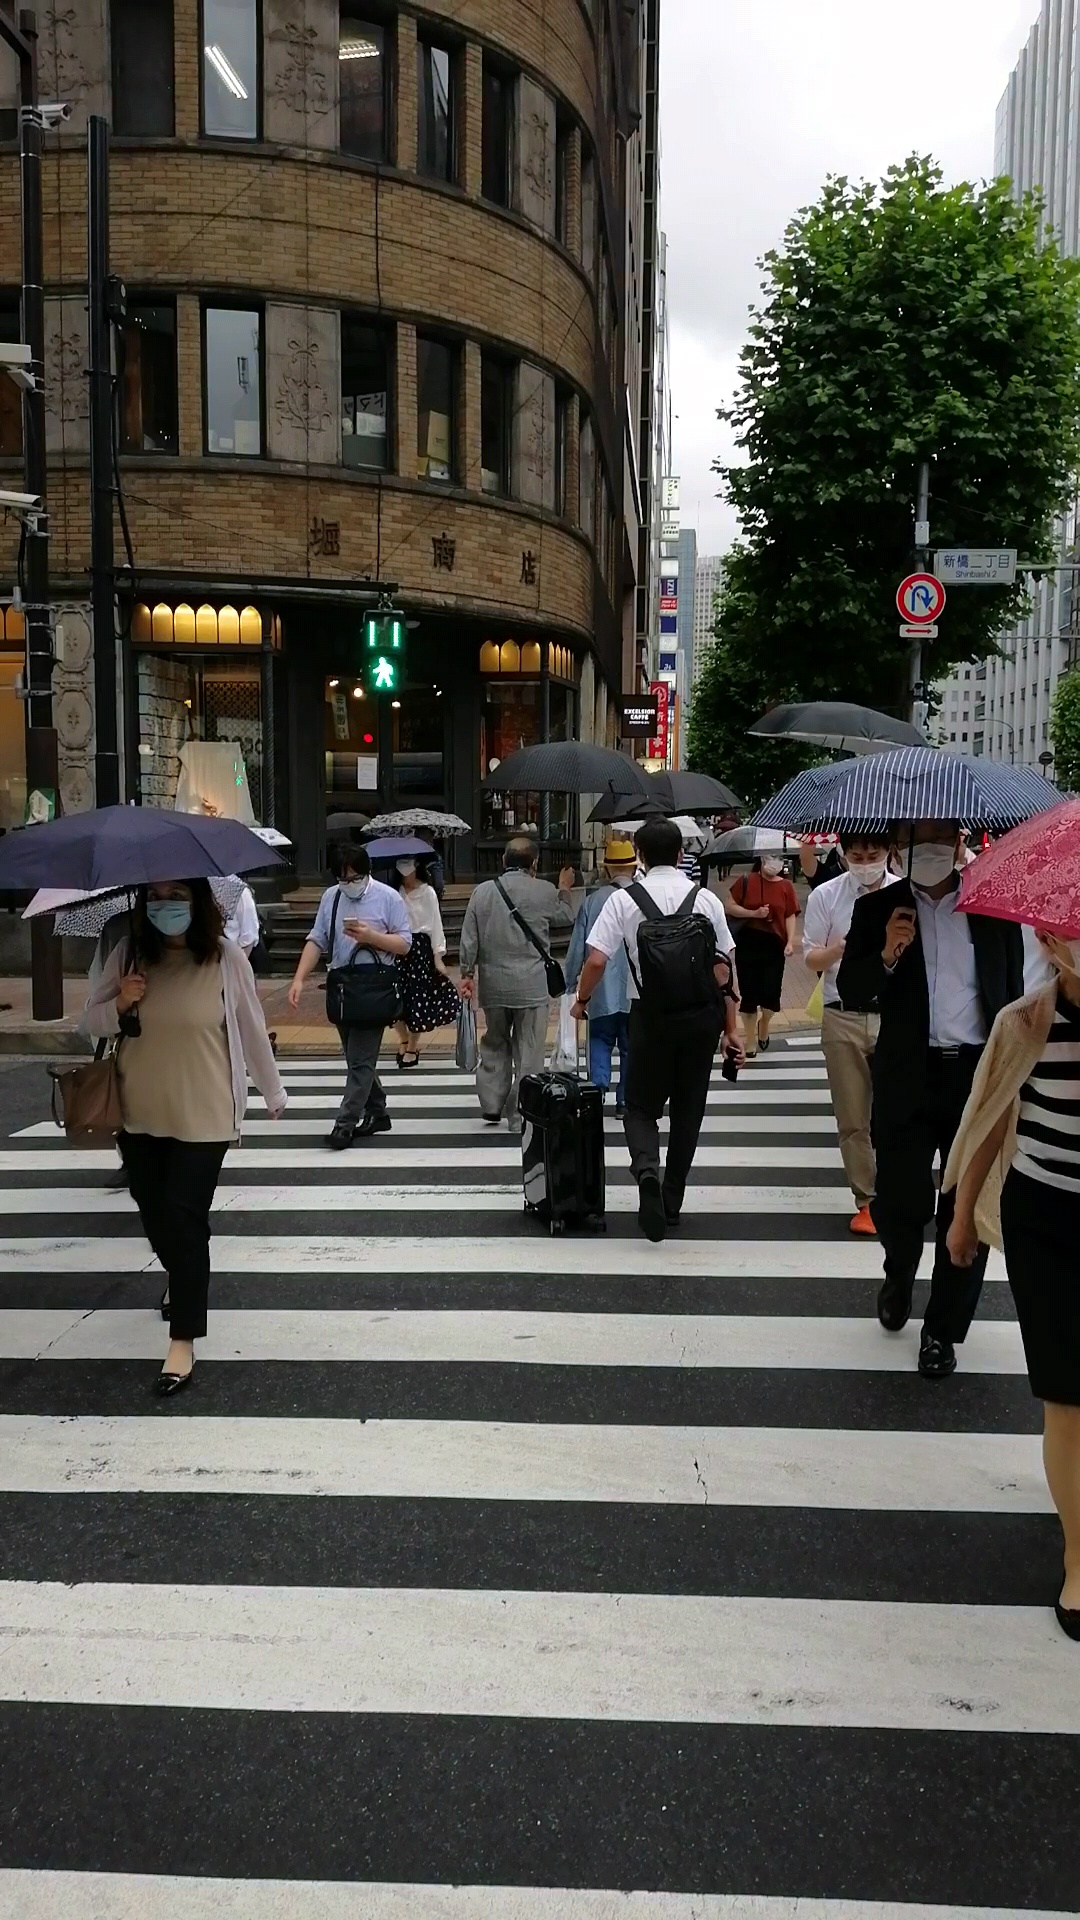green: (363, 609, 405, 696)
